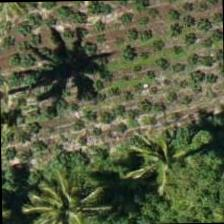Kelapa_Sawit: (111, 115, 203, 207), (15, 160, 108, 223)
